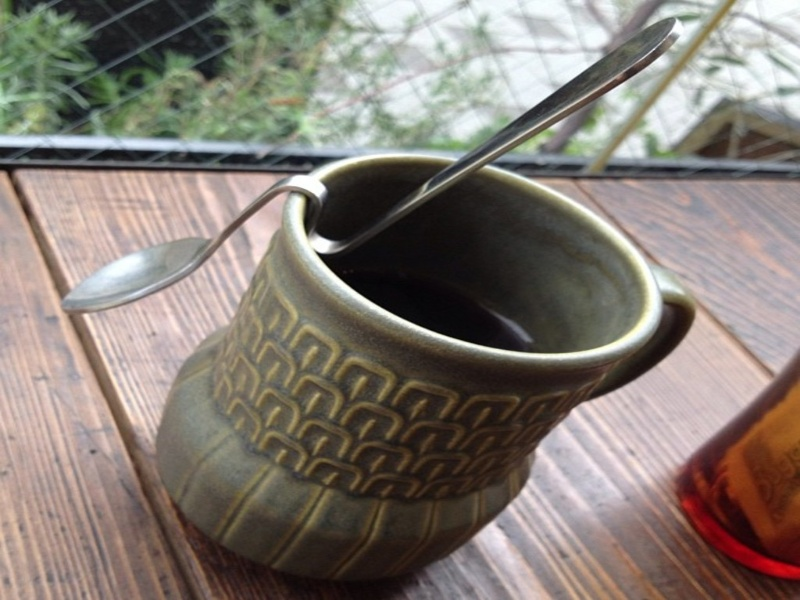cup: (156, 149, 694, 587)
